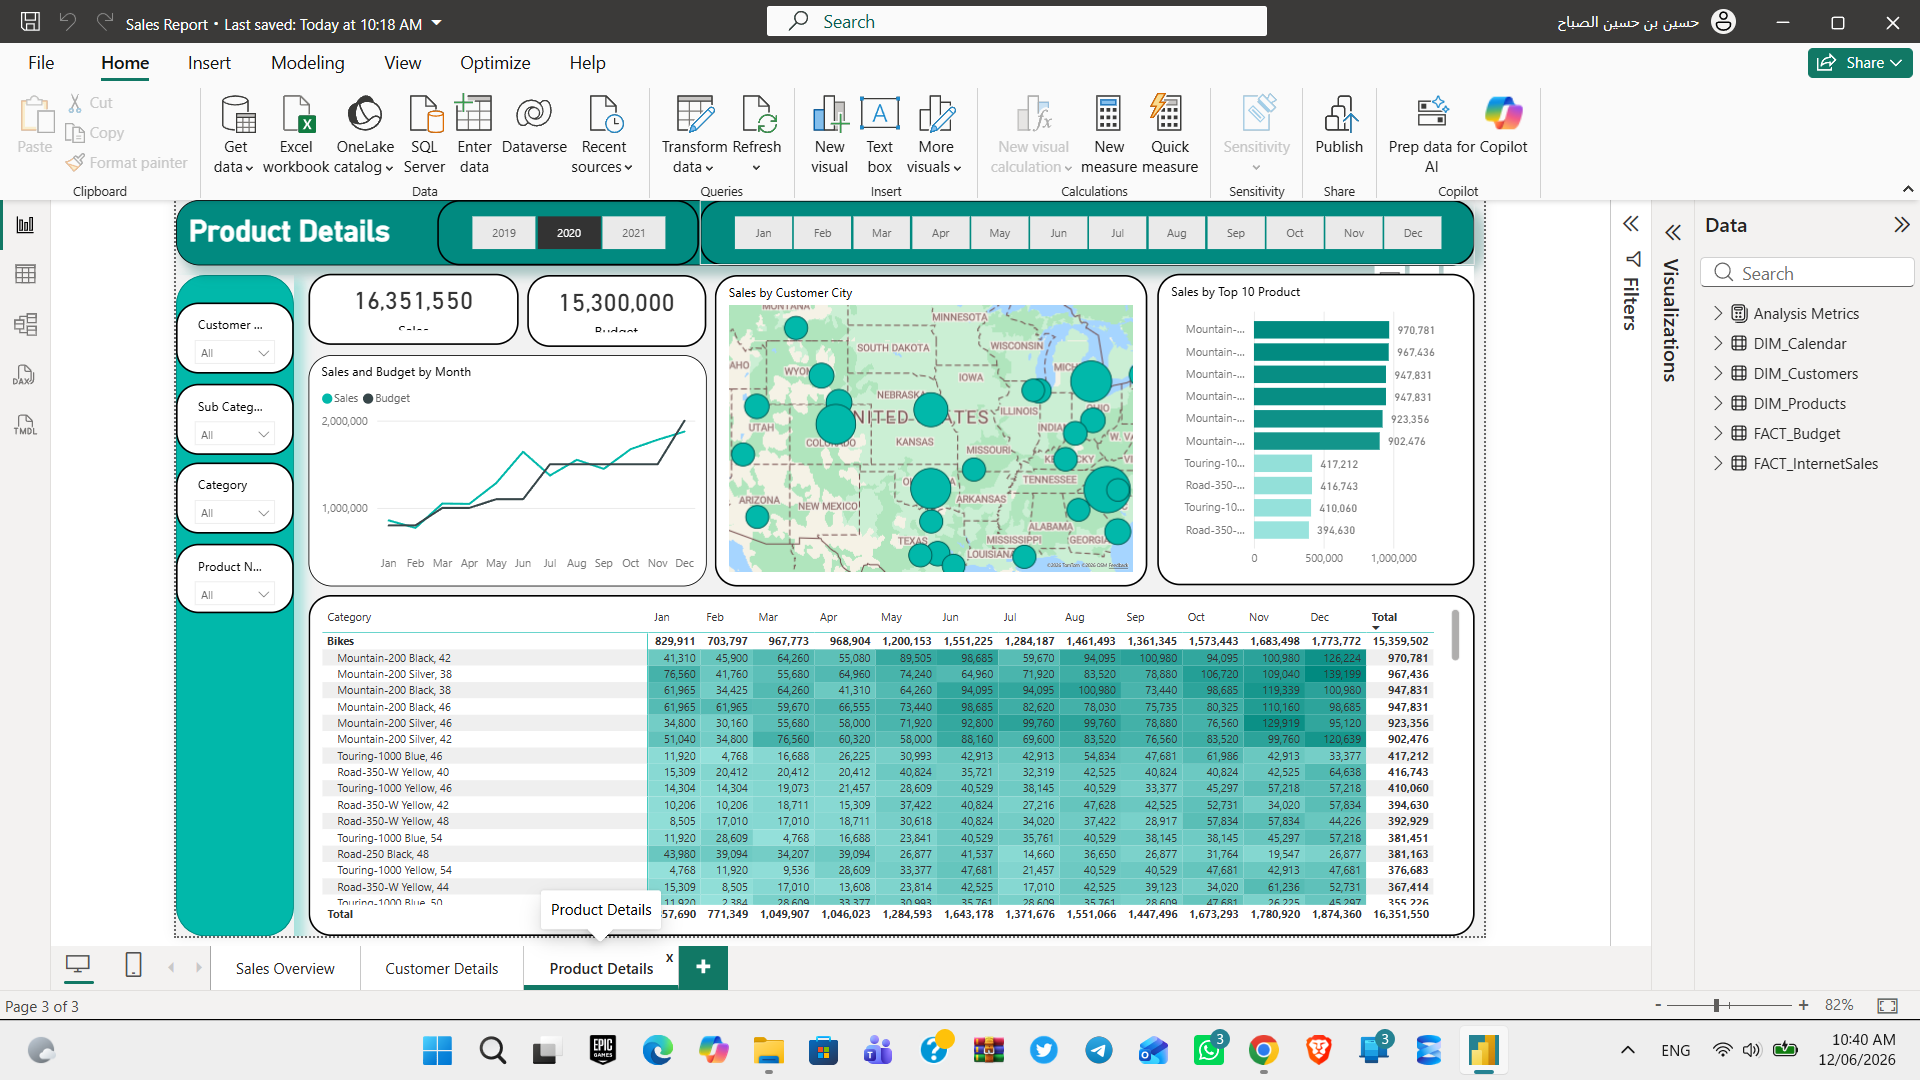

Layout of this report page (visuals, bound fields, positions):
{"tool":"powerbi","page":{"name":"Product Details","canvas":[1280,720],"ordinal":2},"visuals":[{"type":"shape","box":[0,73,115.5,647],"z":0},{"type":"textbox","box":[0,0,1270.3,64],"z":1000},{"type":"slicer","fields":{"Values":["DIM_Calendar.Year"]},"box":[256,0,256,64],"z":2000},{"type":"slicer","fields":{"Values":["DIM_Calendar.MonthShort"]},"box":[512,0,758.3,64],"z":3000},{"type":"slicer","fields":{"Values":["DIM_Customers.Customer City"]},"box":[0,100.2,115.5,69.6],"z":4000},{"type":"slicer","fields":{"Values":["DIM_Products.Product Category"]},"box":[0,257.4,115.5,69.6],"z":5000},{"type":"slicer","fields":{"Values":["DIM_Products.Product Name"]},"box":[0,336.7,115.5,68.2],"z":6000},{"type":"slicer","fields":{"Values":["DIM_Products.Sub Category"]},"box":[0,179.5,115.5,69.6],"z":7000},{"type":"lineChart","fields":{"Category":["DIM_Calendar.MonthShort"],"Y":["Analysis Metrics.Sales","Analysis Metrics.Budget"]},"box":[129.4,151.7,389.6,226.8],"z":8000},{"type":"card","fields":{"Values":["Analysis Metrics.Sales"]},"box":[129.4,72.3,205.9,69.6],"z":9000},{"type":"azureMap","fields":{"Category":["DIM_Customers.Customer City"],"Size":["Analysis Metrics.Sales"]},"box":[527.3,72.8,423.5,304.5],"z":10000},{"type":"card","fields":{"Values":["Analysis Metrics.Budget"]},"box":[343.6,72.8,174.9,70.1],"z":11000},{"type":"pivotTable","fields":{"Rows":["DIM_Products.Product Category","DIM_Products.Product Name"],"Columns":["DIM_Calendar.MonthShort"],"Values":["Analysis Metrics.Sales"]},"box":[129.4,386.8,1140.9,333.9],"z":12000},{"type":"clusteredBarChart","title":"Sales by Top 10 Product","fields":{"Category":["DIM_Products.Product Name"],"Y":["Analysis Metrics.Sales"]},"box":[960,72.3,310.3,304.7],"z":13000}]}

Visuals, with their boxes on the page's 1280x720 design canvas (x1, y1, x2, y2). These are canvas units, not pixel positions in the 1920x1080 screenshot, which may show the page scaled, cropped or inside an application window:
shape: [left=0, top=73, right=116, bottom=720]
textbox: [left=0, top=0, right=1270, bottom=64]
slicer - DIM_Calendar.Year: [left=256, top=0, right=512, bottom=64]
slicer - DIM_Calendar.MonthShort: [left=512, top=0, right=1270, bottom=64]
slicer - DIM_Customers.Customer City: [left=0, top=100, right=116, bottom=170]
slicer - DIM_Products.Product Category: [left=0, top=257, right=116, bottom=327]
slicer - DIM_Products.Product Name: [left=0, top=337, right=116, bottom=405]
slicer - DIM_Products.Sub Category: [left=0, top=180, right=116, bottom=249]
lineChart - DIM_Calendar.MonthShort x Analysis Metrics.Sales: [left=129, top=152, right=519, bottom=378]
card - Analysis Metrics.Sales: [left=129, top=72, right=335, bottom=142]
azureMap - DIM_Customers.Customer City x Analysis Metrics.Sales: [left=527, top=73, right=951, bottom=377]
card - Analysis Metrics.Budget: [left=344, top=73, right=518, bottom=143]
pivotTable - DIM_Products.Product Category x DIM_Products.Product Name: [left=129, top=387, right=1270, bottom=721]
"Sales by Top 10 Product" clusteredBarChart: [left=960, top=72, right=1270, bottom=377]
